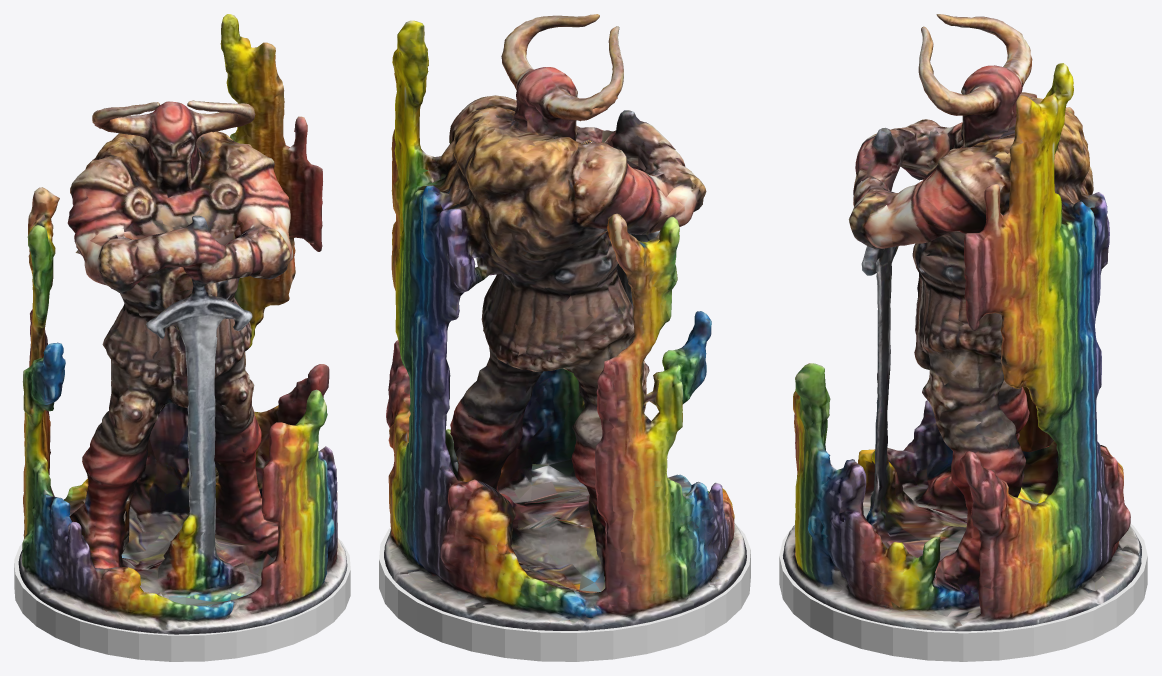
3 renders of one model, left to right at view 1: azimuth 30°, elevation 25°; view 2: azimuth 150°, elevation 25°; view 3: azimuth 270°, elevation 25°, orthographic. The views are drawn at different scales.
Parts seen in each view (by area): view 1: Heimdall, default; view 2: Heimdall, default; view 3: Heimdall, default.
Boxes of the visible parts, bbox=[...] form: Heimdall: bbox=[18, 14, 347, 634]; default: bbox=[14, 538, 350, 661]; Heimdall: bbox=[384, 14, 746, 630]; default: bbox=[379, 522, 750, 661]; Heimdall: bbox=[783, 14, 1141, 631]; default: bbox=[779, 523, 1147, 661].
Bounding box in the file's own units: 1.4 × 2.35 × 1.38.
Materials: 2 (1 with a texture image).
